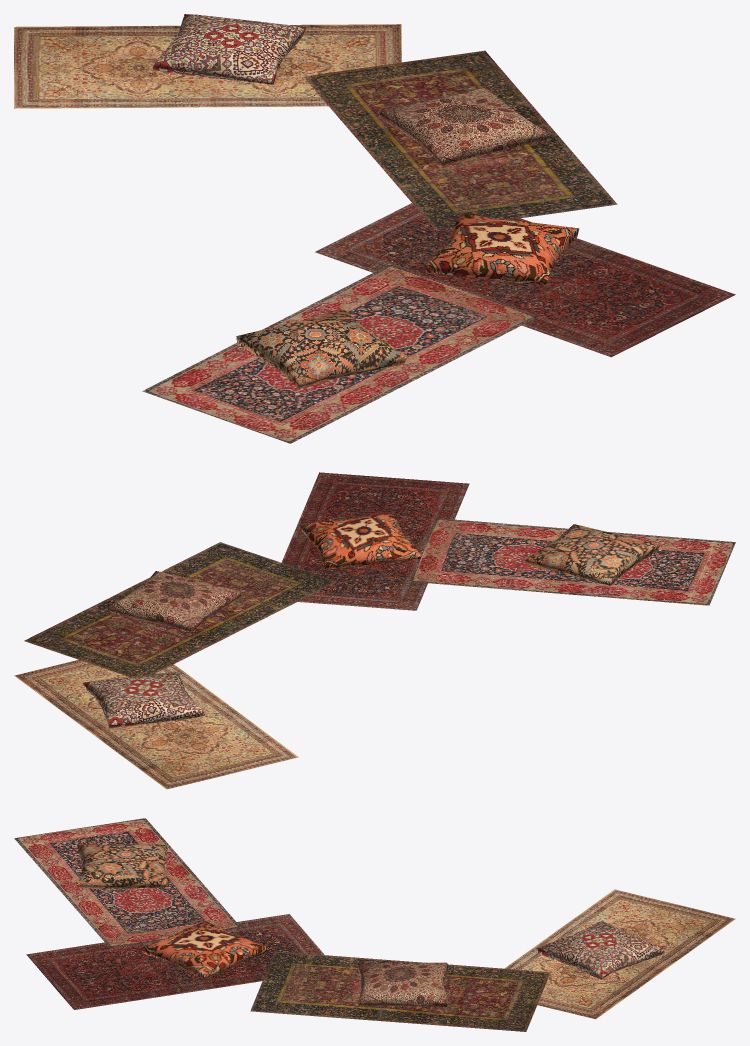
File: alfombra_lev4.glb
3 views of the same model, one above another, from view 1: azimuth 30°, elevation 25°; view 2: azimuth 150°, elevation 25°; view 3: azimuth 270°, elevation 25° (orthographic). The views are drawn at different scales.
Parts seen in each view (by area): view 1: Tapis, Coussins; view 2: Tapis, Coussins; view 3: Tapis, Coussins.
Part boxes in pixels (left/top/right/bottom): Tapis: left=14, top=24, right=735, bottom=443; Coussins: left=152, top=14, right=579, bottom=388; Tapis: left=14, top=472, right=735, bottom=789; Coussins: left=82, top=513, right=659, bottom=727; Tapis: left=14, top=818, right=735, bottom=1031; Coussins: left=77, top=844, right=665, bottom=1007.
Bounding box in the file's own units: 149 × 7.16 × 212.
Materials: 2 (2 with a texture image).
